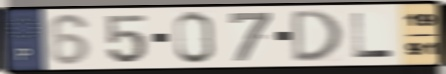0: (172, 10, 217, 66)
5: (103, 13, 150, 64)
6: (46, 12, 94, 66)
7: (227, 11, 274, 62)
D: (290, 8, 344, 65)
L: (349, 11, 396, 60)
